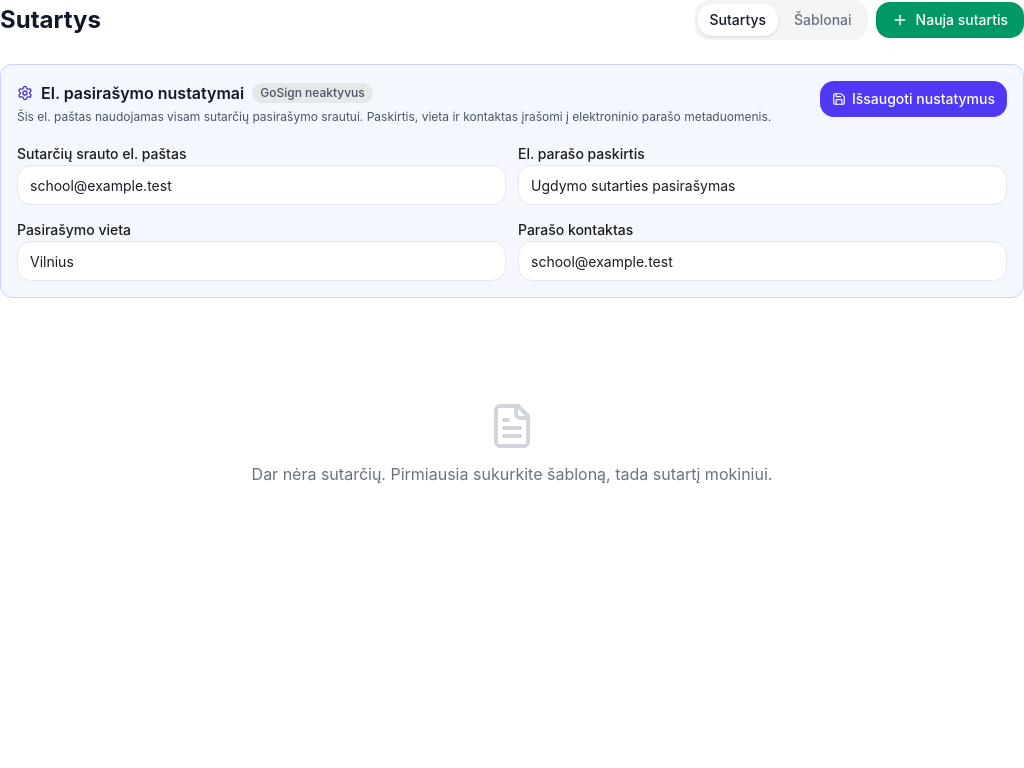
Test: CompanyContracts 20% discount checkbox › hides the hint when unchecked
Click the button "Nauja sutartis": (950, 20) [876,2,1023,38]
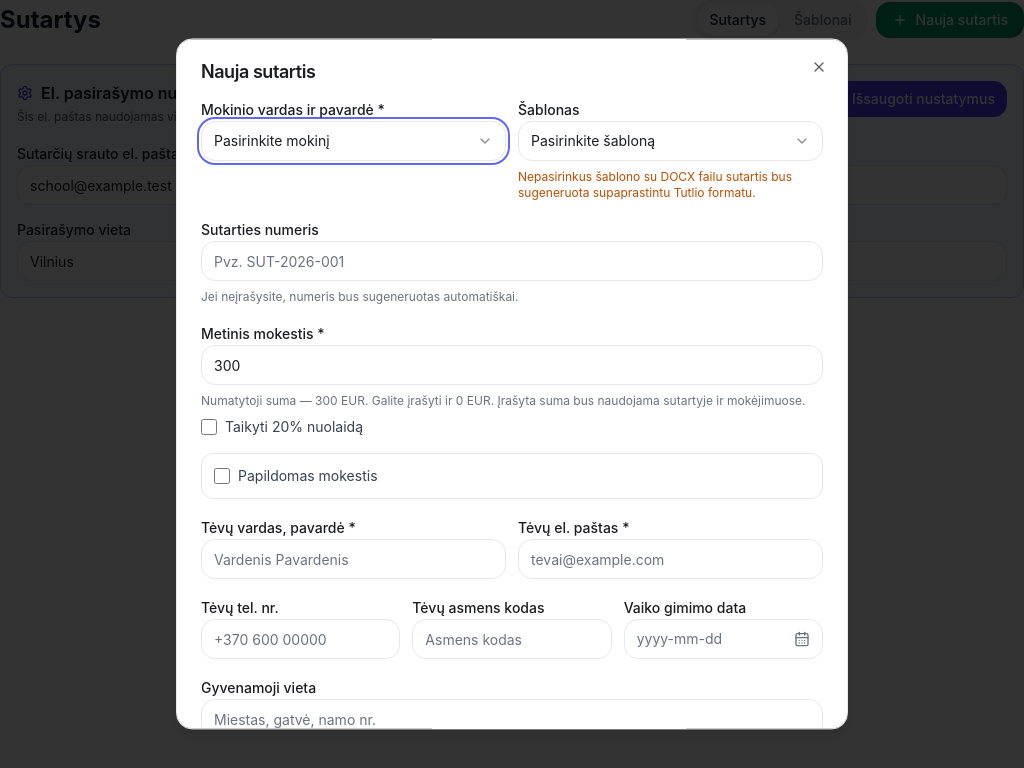
Click the checkbox labelled "Taikyti 20% nuolaidą": (209, 427) [201,419,217,435]
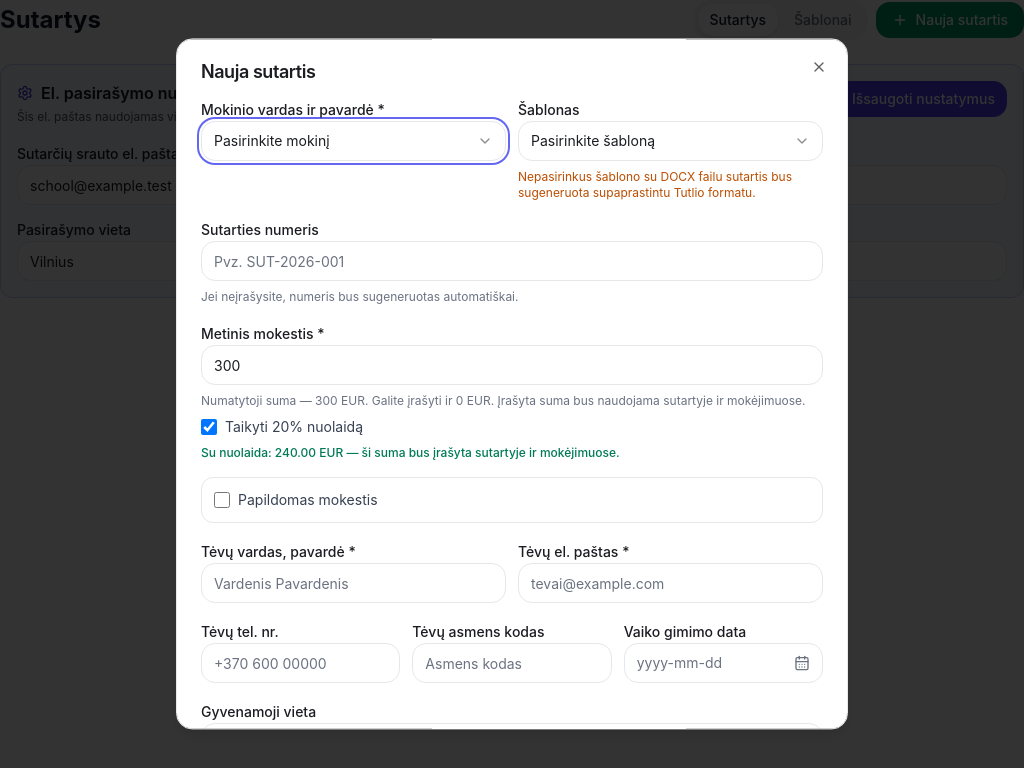
Click the checkbox labelled "Taikyti 20% nuolaidą": (209, 427) [201,419,217,435]
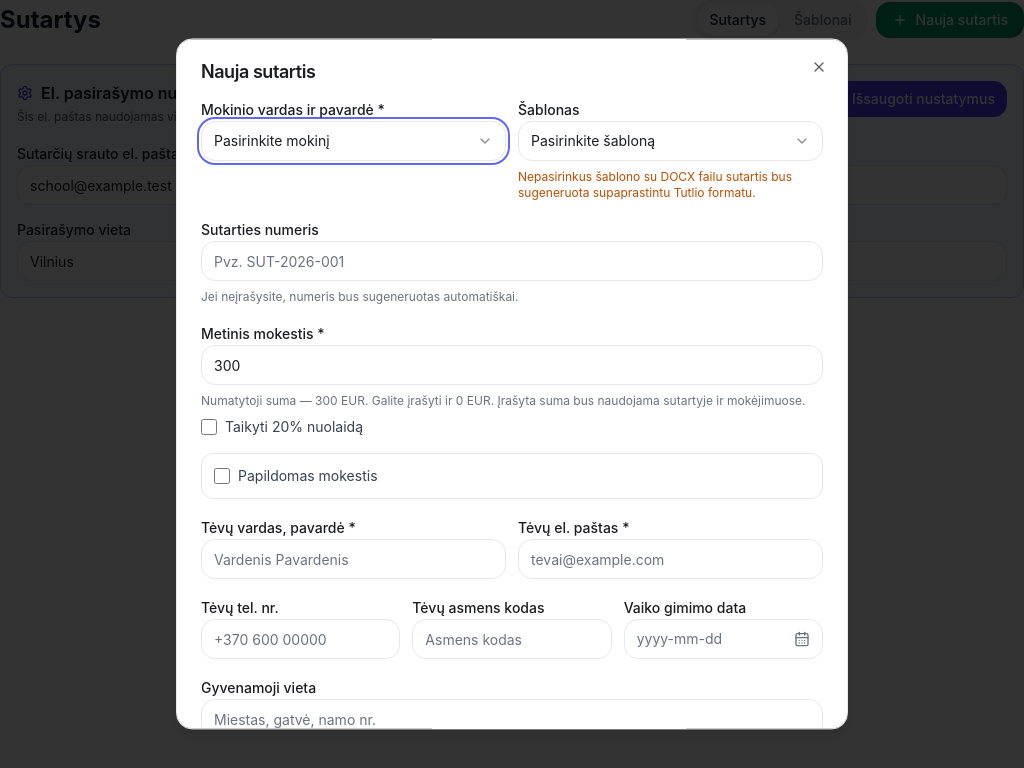
Expected: the text "Su nuolaida:" is gone
